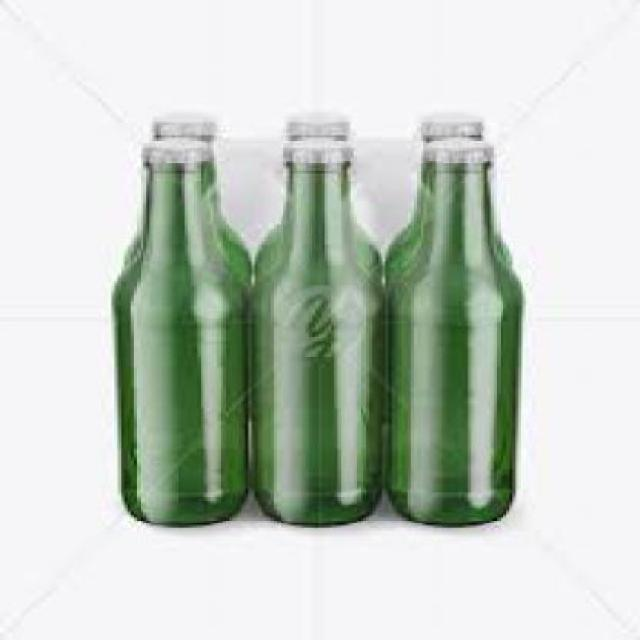kaca: (113, 163, 250, 525), (380, 162, 514, 526), (250, 163, 372, 523), (379, 136, 506, 306), (122, 135, 249, 280), (252, 137, 380, 275), (382, 140, 506, 275)
